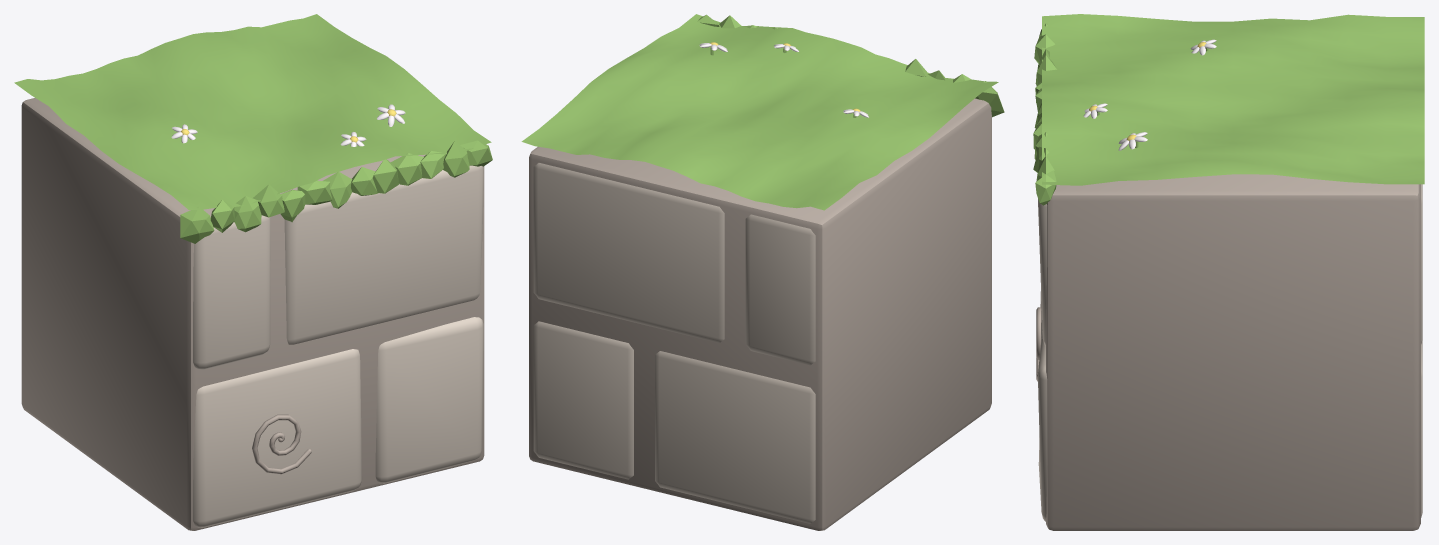
Rendered from block.glb.
The picture shows the model from 3 angles, left to right: view 1: azimuth 30°, elevation 25°; view 2: azimuth 150°, elevation 25°; view 3: azimuth 270°, elevation 25°; orthographic projection. The views are drawn at different scales.
Visible parts, largest first — view 1: block; view 2: block; view 3: block.
Part boxes in pixels (left/top/right/bottom): block: left=14, top=14, right=492, bottom=530; block: left=521, top=14, right=1004, bottom=530; block: left=1033, top=14, right=1424, bottom=530.
Size of the model in its own units: 1.02 by 1.06 by 1.02.
